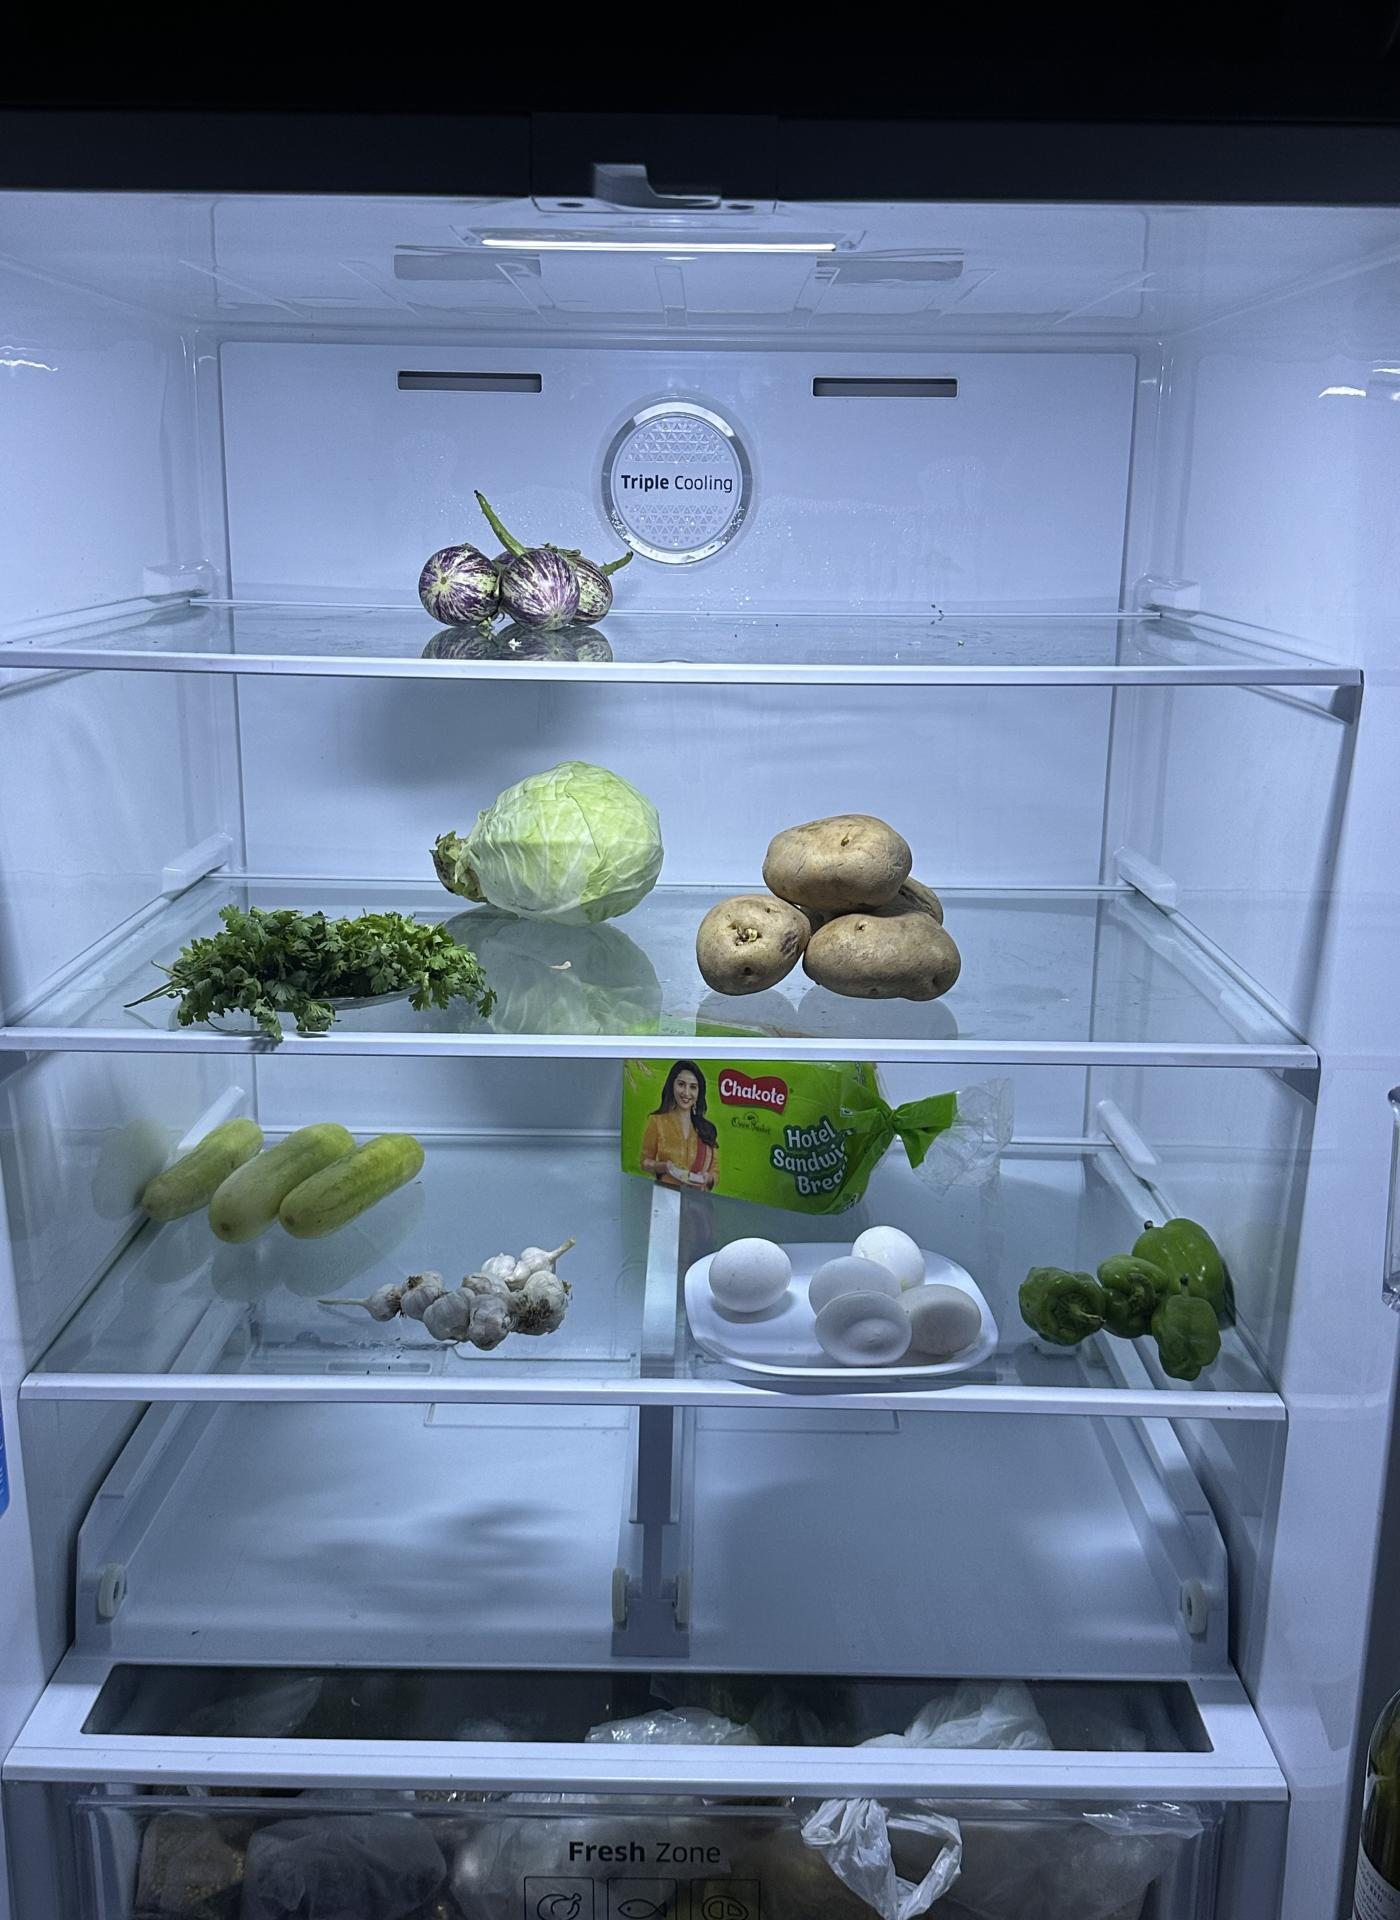bread: (625, 1052, 901, 1210), (1355, 1676, 1400, 1920)
brinjal: (409, 529, 614, 640)
cabbage: (440, 765, 663, 932)
capsicum: (1020, 1212, 1243, 1382)
coriander: (173, 909, 485, 1035)
cucumber: (127, 1118, 434, 1254)
egg: (711, 1230, 984, 1370)
garlic: (353, 1240, 576, 1358)
potato: (690, 817, 960, 1009)
